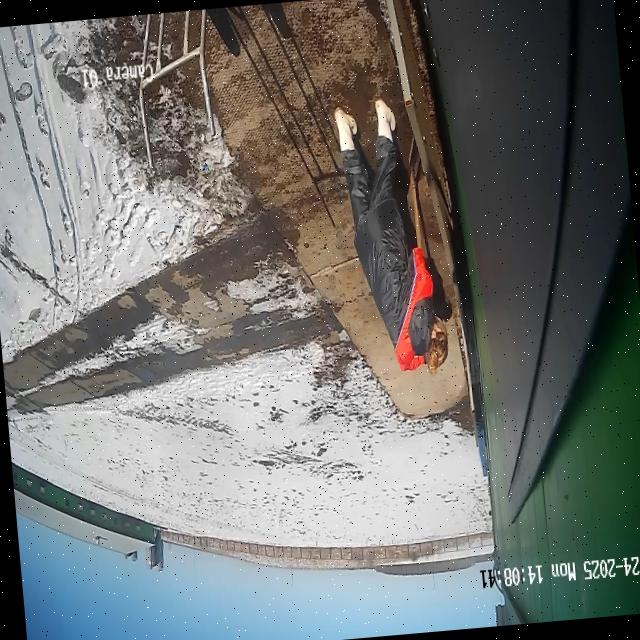Red uniform: (337, 128, 442, 378)
